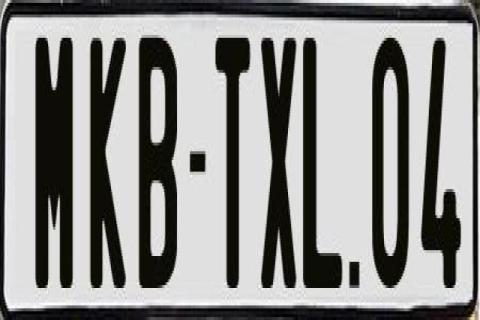0: (418, 29, 464, 291), (371, 29, 409, 291)
B: (138, 38, 182, 291)
K: (88, 38, 126, 291)
L: (302, 29, 342, 294)
M: (34, 35, 78, 299)
T: (216, 29, 254, 282)
X: (260, 32, 302, 296)
